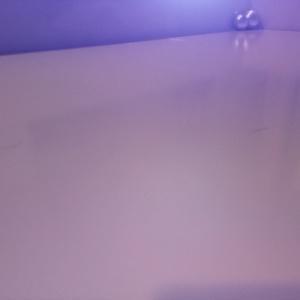alive_ball: (244, 10, 259, 29), (233, 14, 248, 31)
